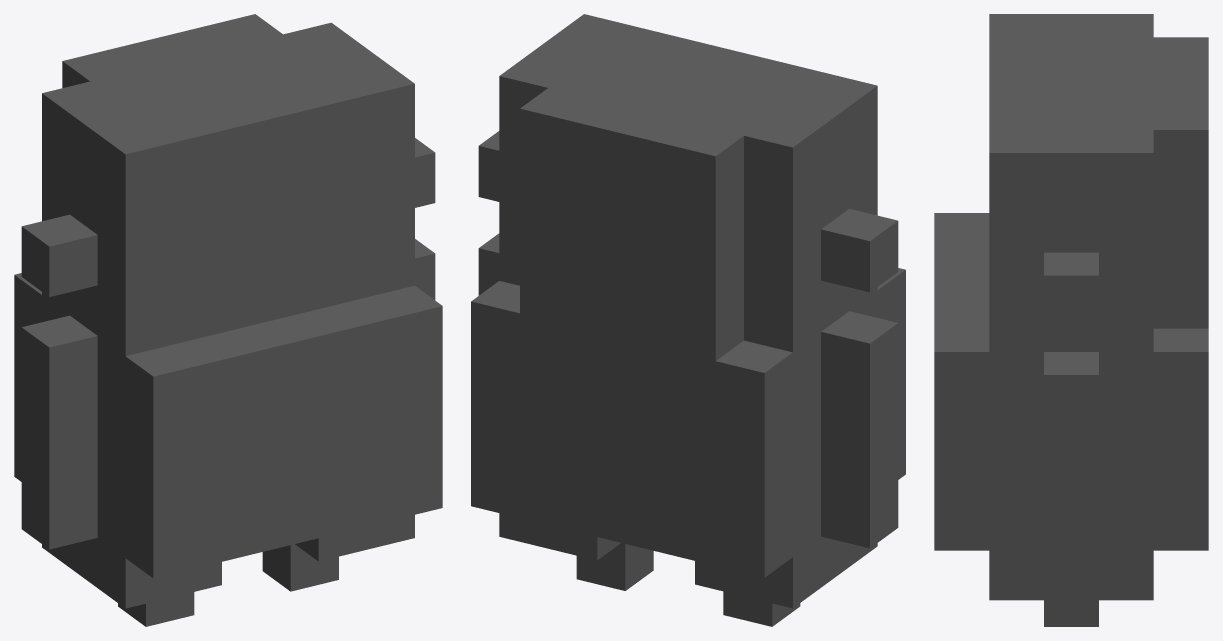
The model's file is chr_base.obj.
The picture shows the model from 3 angles, left to right: view 1: azimuth 30°, elevation 25°; view 2: azimuth 150°, elevation 25°; view 3: azimuth 270°, elevation 25°; orthographic projection. The views are drawn at different scales.
Bounding box in the file's own units: 8 × 10 × 5.
